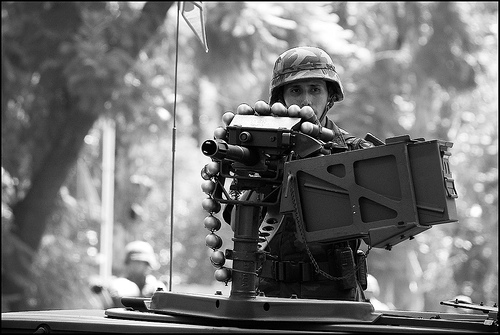rifle: (186, 98, 447, 259)
